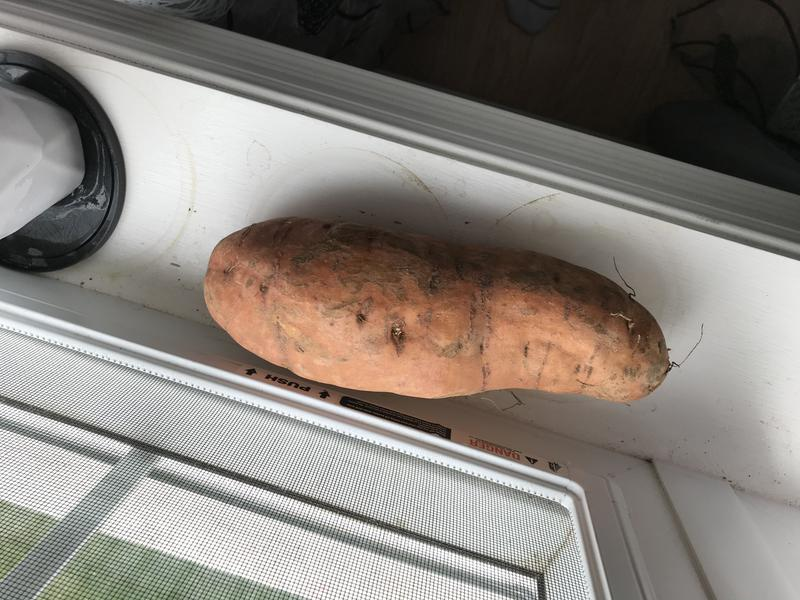sweet_potato: (187, 204, 693, 425)
